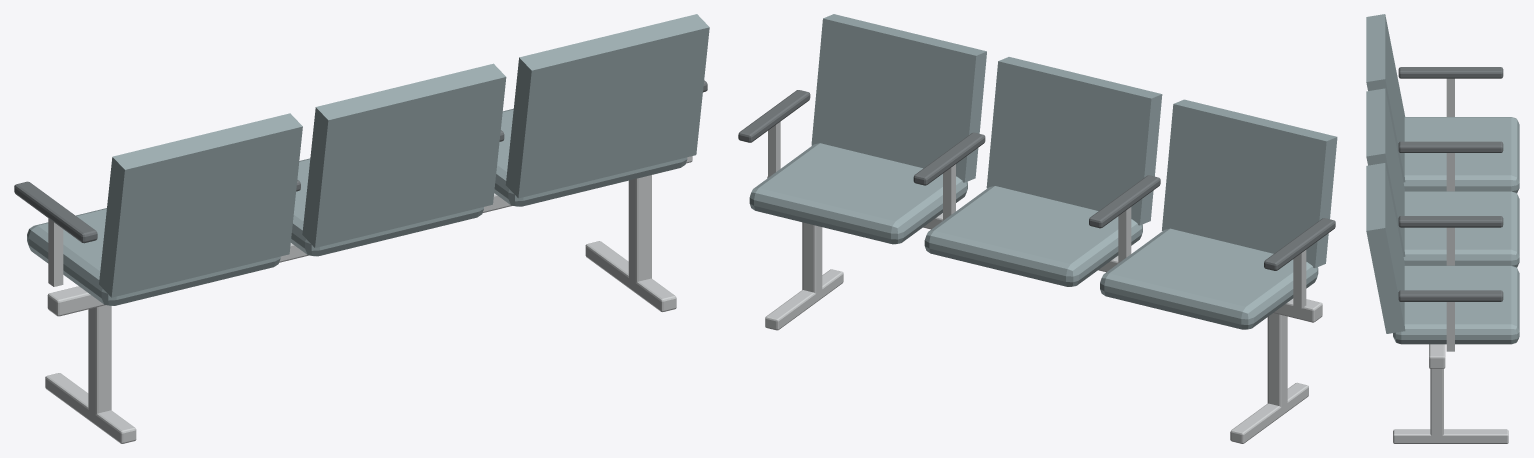
File: waiting_seat.glb
The picture shows the model from 3 angles, left to right: view 1: azimuth 30°, elevation 25°; view 2: azimuth 150°, elevation 25°; view 3: azimuth 270°, elevation 25°; orthographic projection. The views are drawn at different scales.
Parts seen in each view (by area): view 1: waiting_seat; view 2: waiting_seat; view 3: waiting_seat.
Part boxes in pixels (x1,y1,x2,y2): waiting_seat: [14, 14, 709, 443]; waiting_seat: [738, 14, 1337, 443]; waiting_seat: [1366, 14, 1519, 443].
Bounding box in the file's own units: 2 × 0.8897 × 0.5574.
